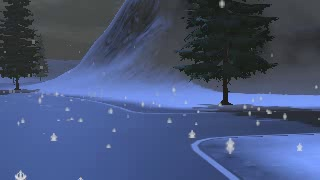Lane: (1, 91, 319, 179)
